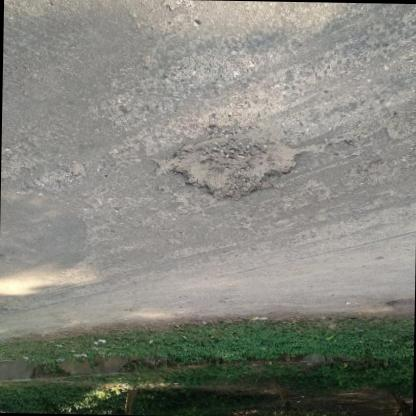pothole: (149, 124, 309, 204)
